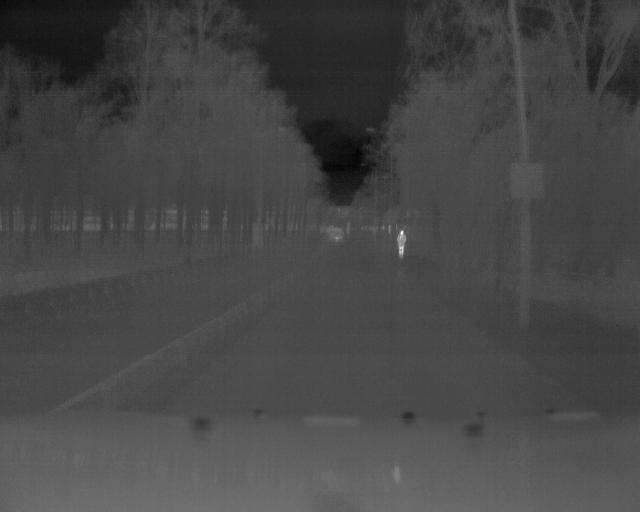person: (395, 229, 408, 263)
